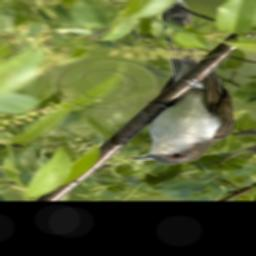Cuckoo: (128, 20, 233, 169)
